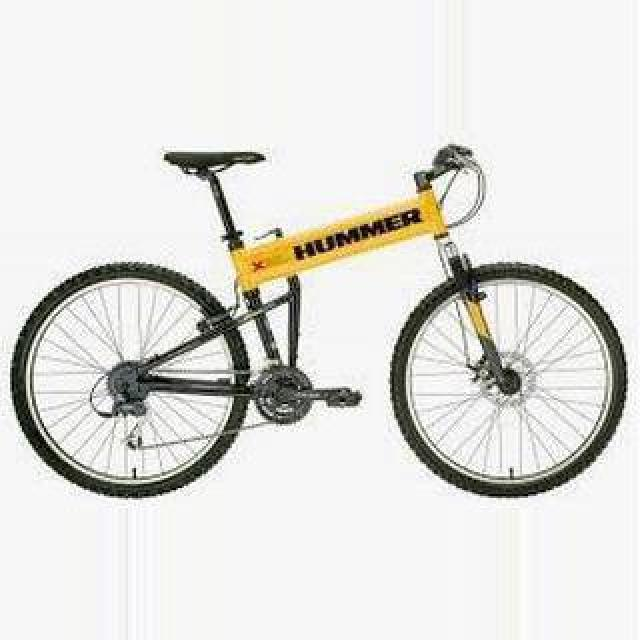Person: (10, 142, 630, 500)
